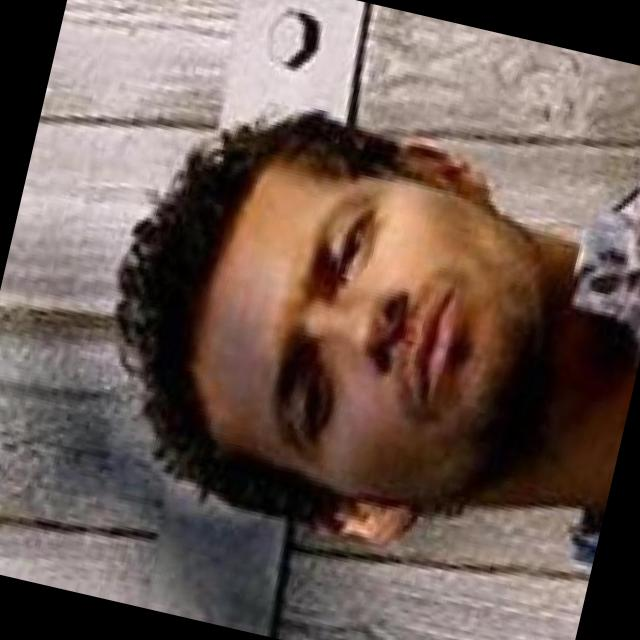bareface: (106, 82, 562, 530)
